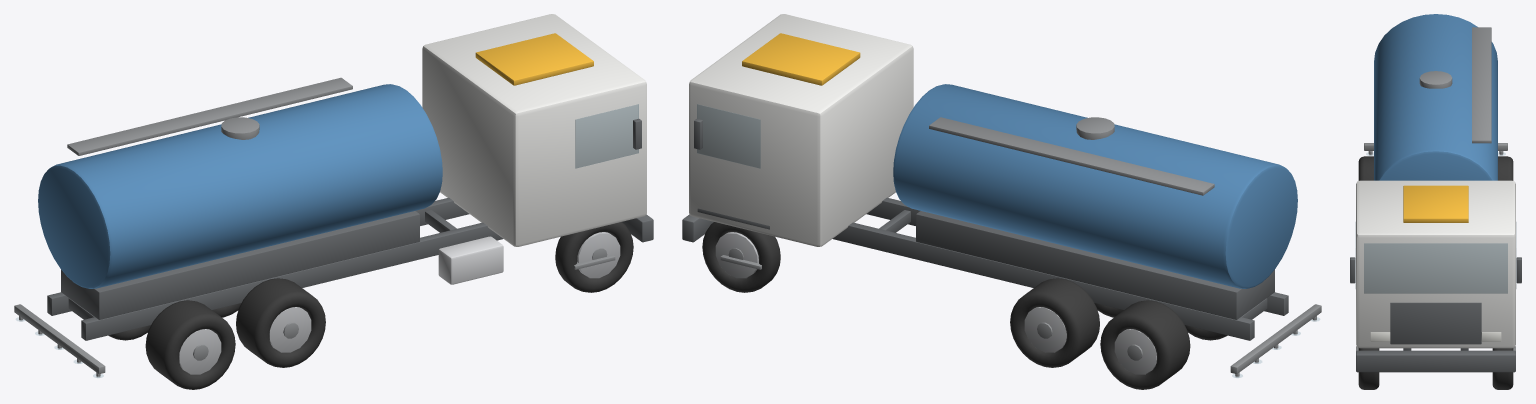
Rendered from EQP-TER-007_anim.glb.
The picture shows the model from 3 angles, left to right: view 1: azimuth 30°, elevation 25°; view 2: azimuth 150°, elevation 25°; view 3: azimuth 270°, elevation 25°; orthographic projection. The views are drawn at different scales.
Visible parts, largest first — view 1: EQP-TER-007_anim11, EQP-TER-007_anim4, EQP-TER-007_anim2, EQP-TER-007_anim0; view 2: EQP-TER-007_anim11, EQP-TER-007_anim5, EQP-TER-007_anim3, EQP-TER-007_anim1; view 3: EQP-TER-007_anim11, EQP-TER-007_anim0, EQP-TER-007_anim1, EQP-TER-007_anim4, EQP-TER-007_anim5.
Boxes of the visible parts, x1,y1,x2,y2 form: EQP-TER-007_anim11: [14, 14, 653, 377]; EQP-TER-007_anim4: [145, 300, 235, 389]; EQP-TER-007_anim2: [236, 278, 325, 367]; EQP-TER-007_anim0: [555, 222, 633, 292]; EQP-TER-007_anim11: [682, 14, 1321, 377]; EQP-TER-007_anim5: [1100, 300, 1190, 389]; EQP-TER-007_anim3: [1010, 278, 1099, 367]; EQP-TER-007_anim1: [702, 222, 780, 292]; EQP-TER-007_anim11: [1350, 14, 1521, 372]; EQP-TER-007_anim0: [1358, 348, 1379, 389]; EQP-TER-007_anim1: [1492, 348, 1513, 389]; EQP-TER-007_anim4: [1358, 156, 1373, 180]; EQP-TER-007_anim5: [1498, 156, 1513, 180].
Size of the model in its own units: 8.25 by 3.03 by 2.63.
